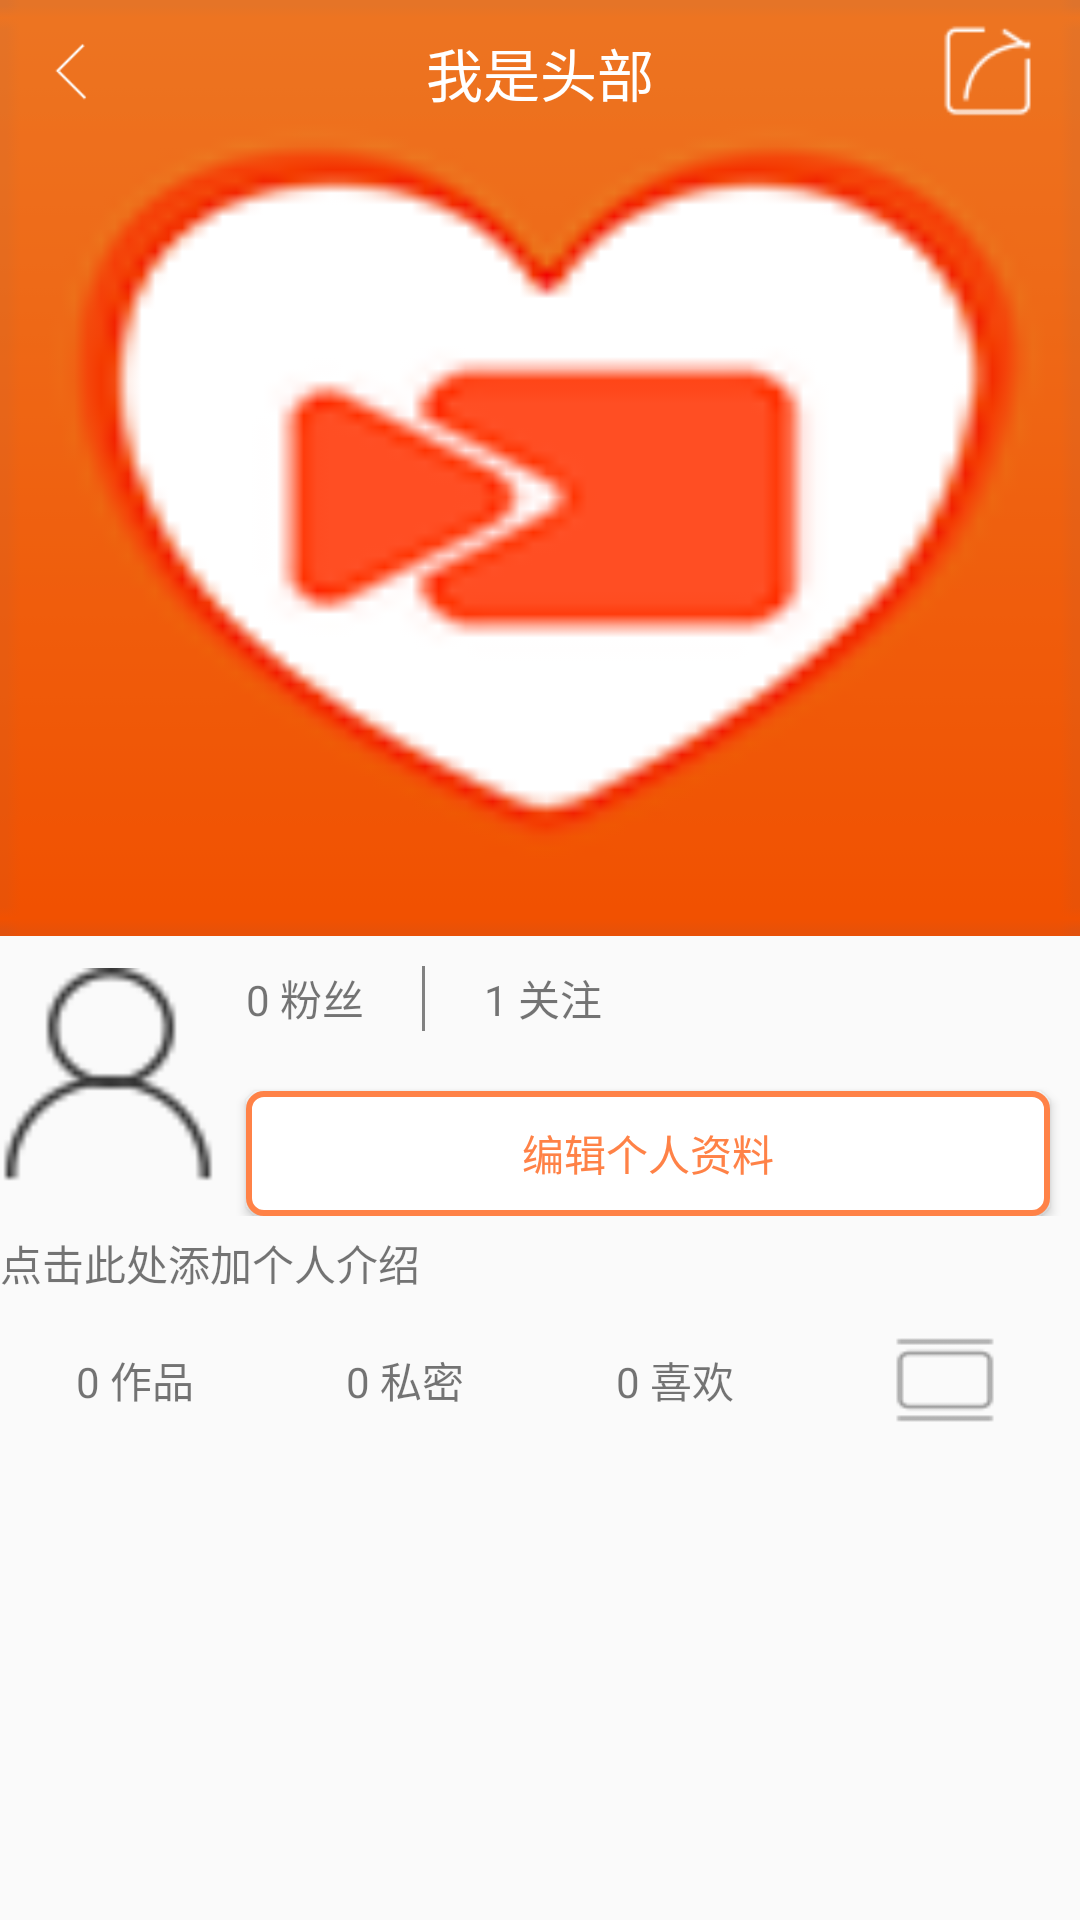

Locate icon controls on the screen. Image size 1080x1920, boxes as [x1,y1,x2,y2].
return: [56,44,86,99]
sharing: [944,26,1031,115]
